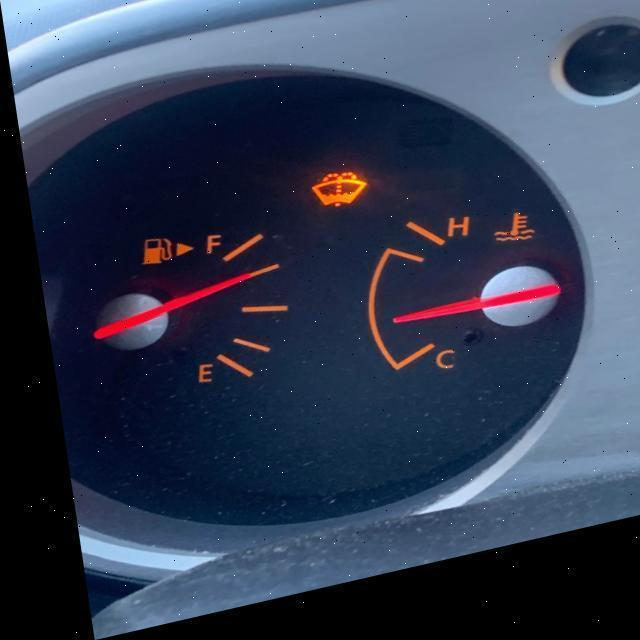Washer Fluid: (312, 168, 368, 208)
